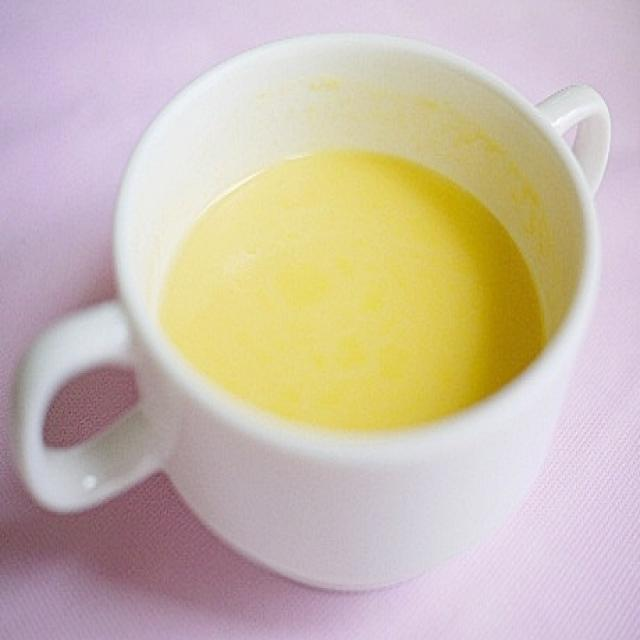汤锅炖物: (19, 8, 615, 596)
